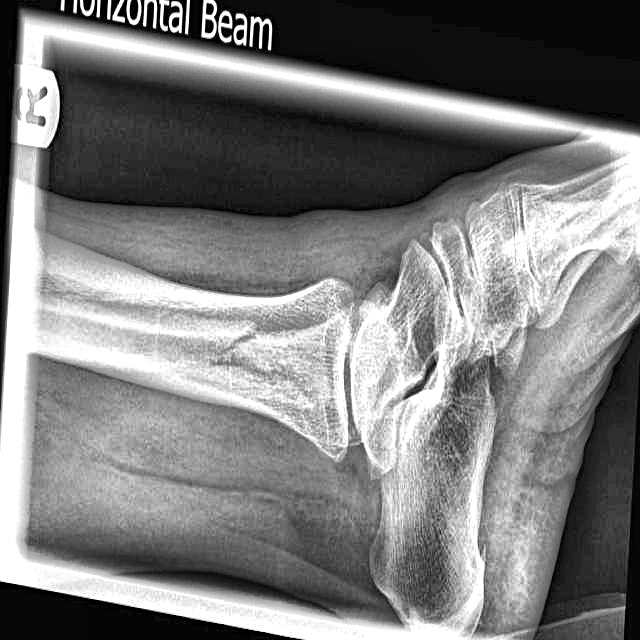Oblique Displaced: (208, 284, 273, 427)
